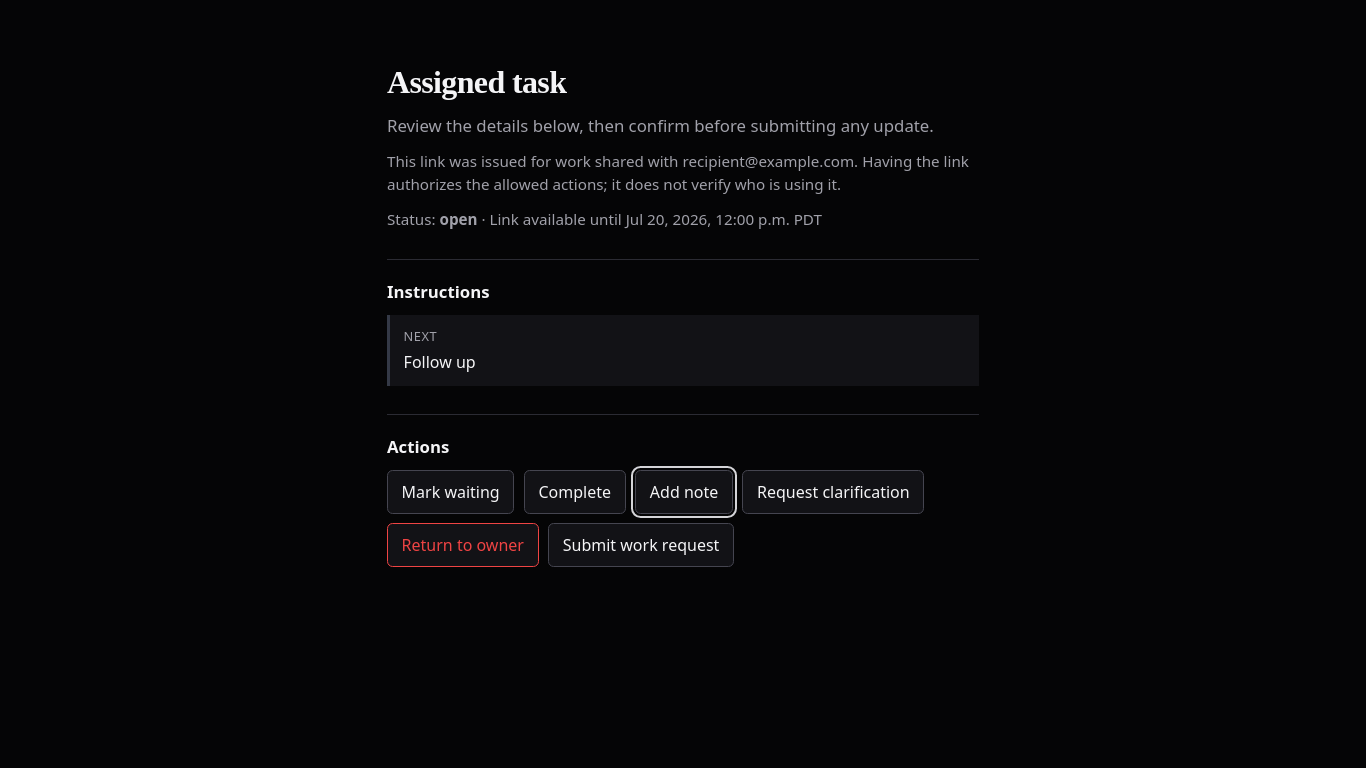
Test case: Recipient confirmation dialog semantics (P1.5 / D119) › keeps the accessible name stable while a submission is pending
Click the button "Add note" at (684, 492), box [635, 470, 733, 514]
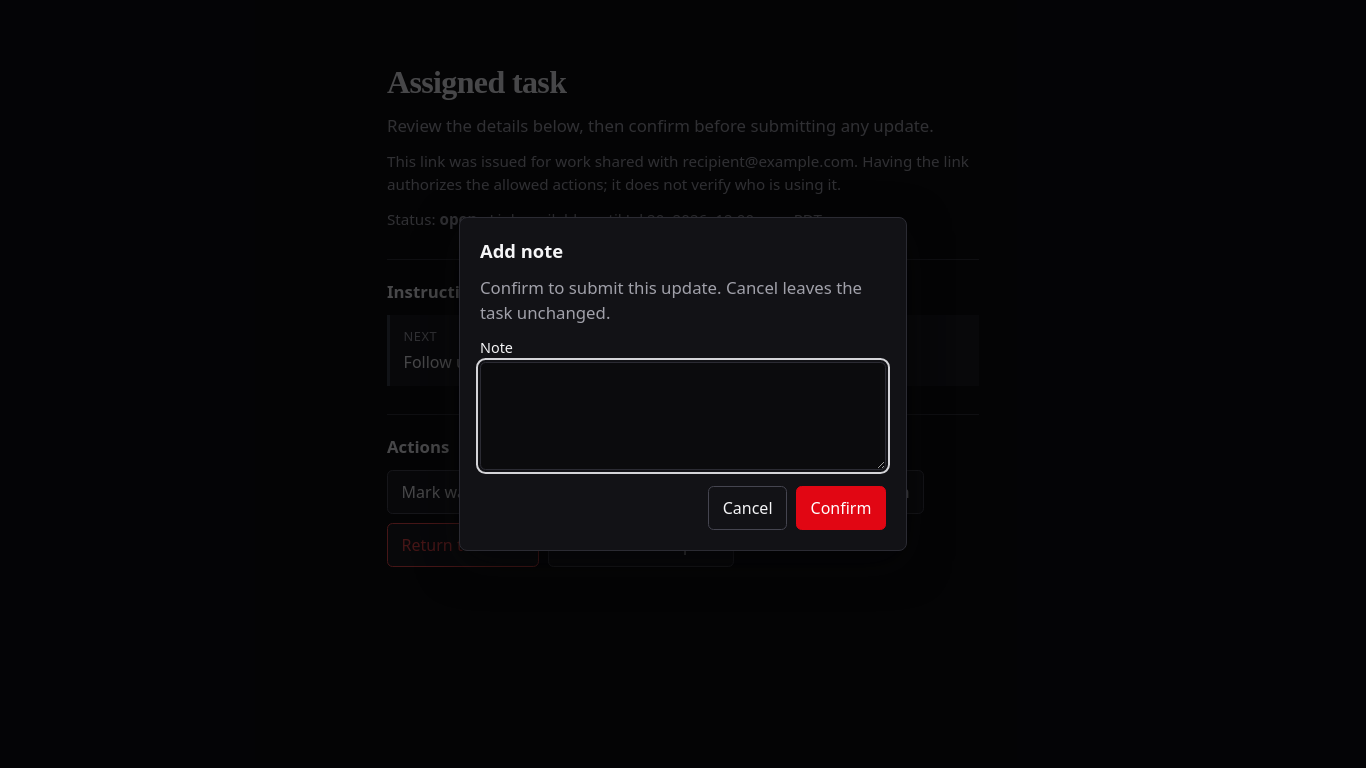
Type "x" into the text box labelled "Note" at (683, 416), box [480, 362, 886, 470]
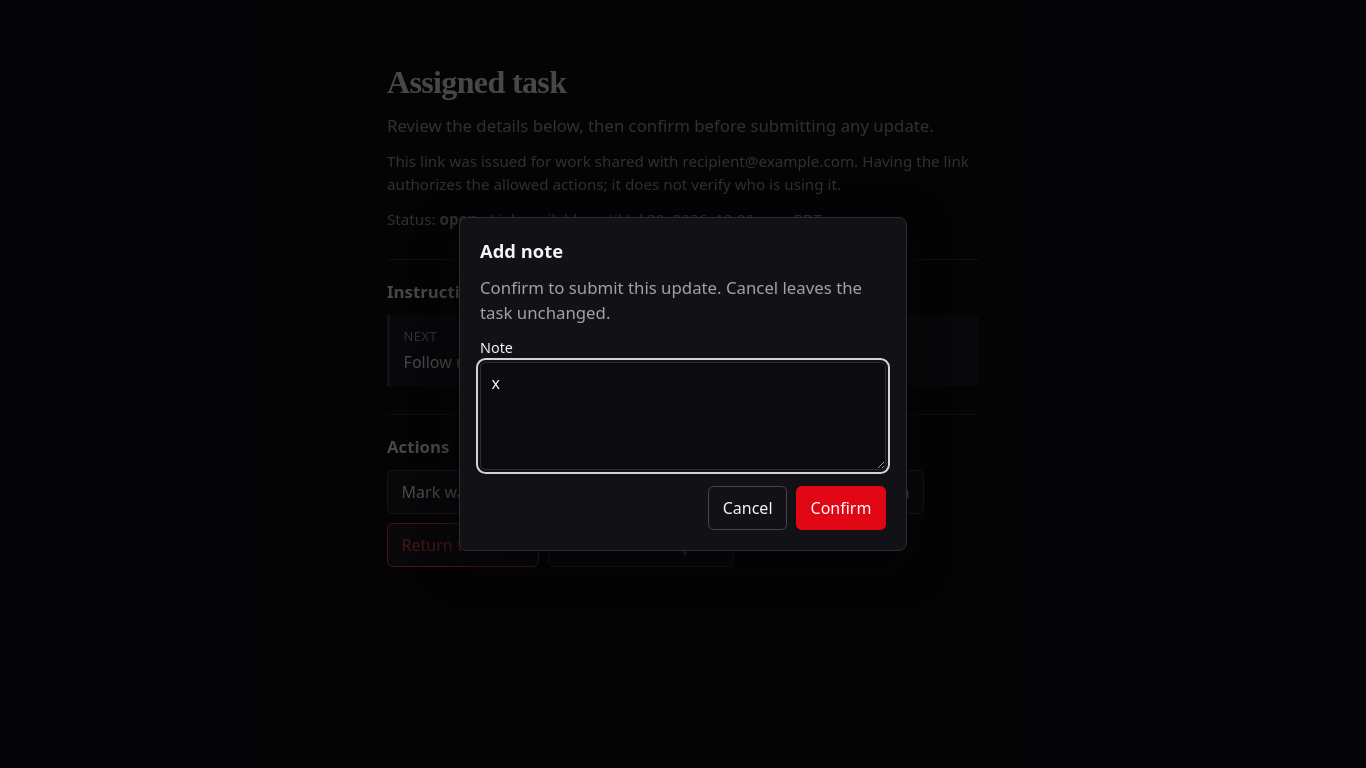
Click the button "Confirm" at (841, 508), box [796, 486, 886, 530]
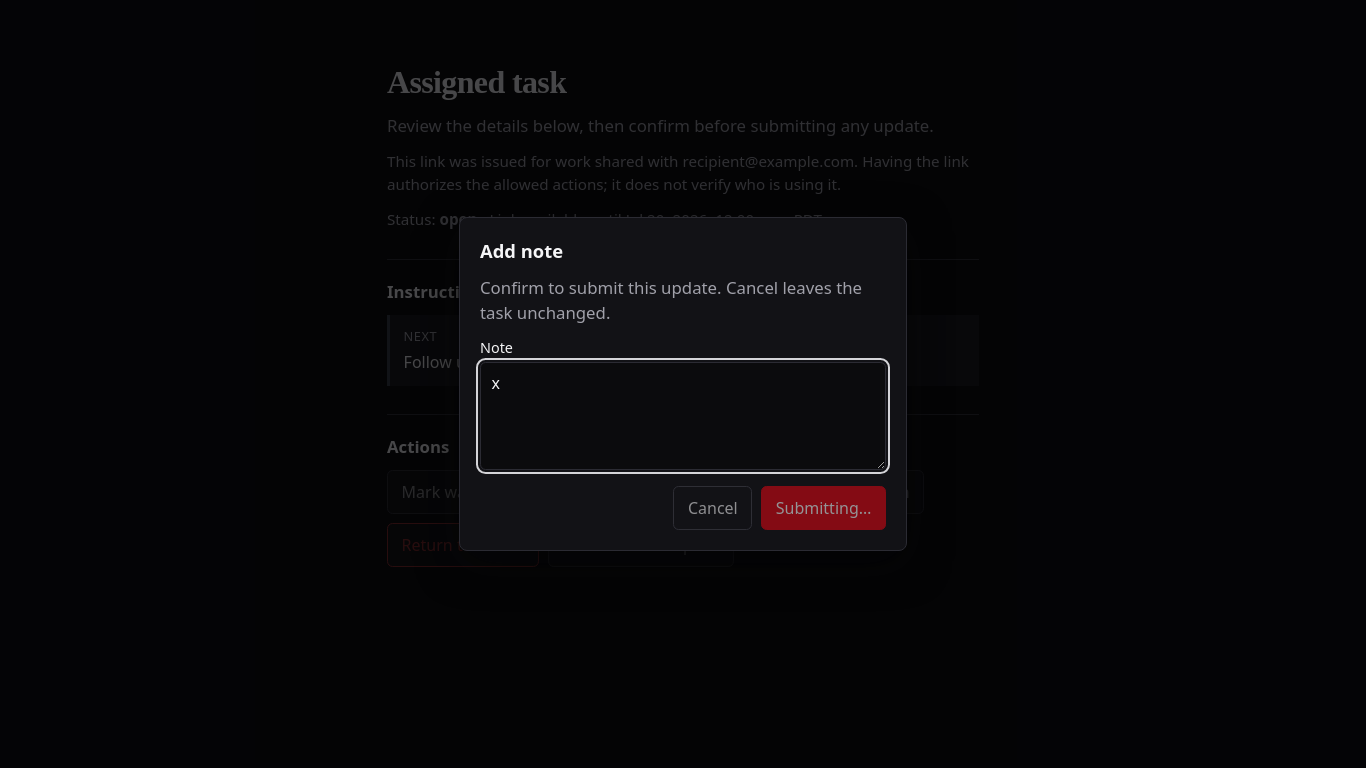
Result: the button "Submitting…" is disabled at [761, 486, 886, 530]
